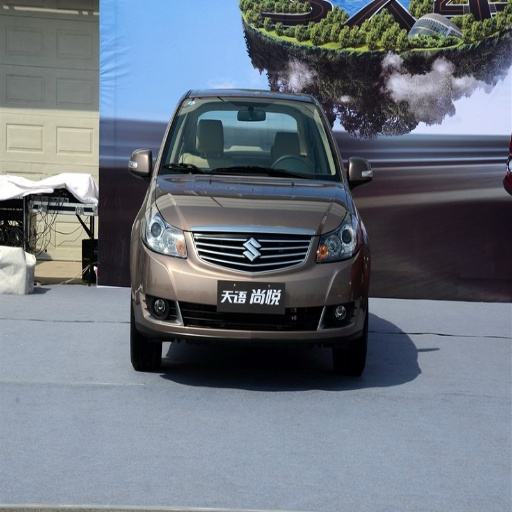front_bumper: (136, 230, 360, 342)
front_right_light: (137, 206, 187, 257)
hood: (154, 173, 347, 233)
